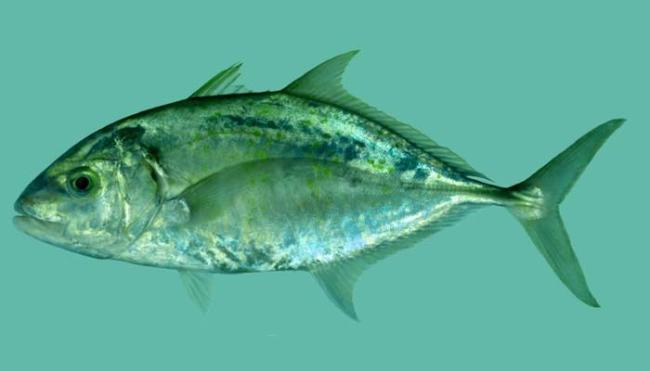fish: (14, 50, 627, 324)
